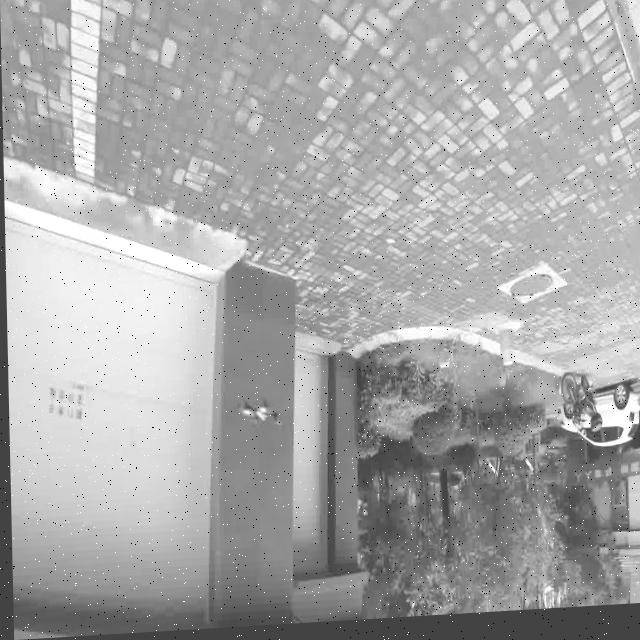drone: (239, 397, 284, 439)
